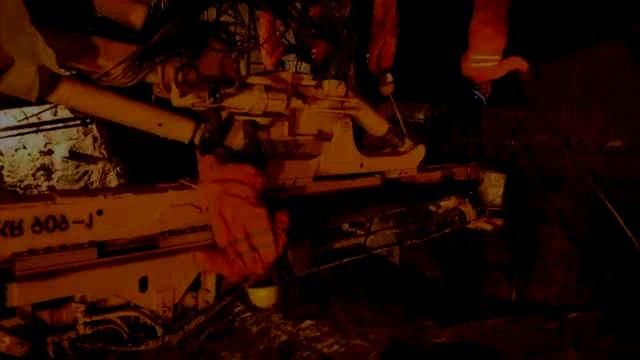helmet: (247, 276, 280, 309), (464, 82, 491, 110)
